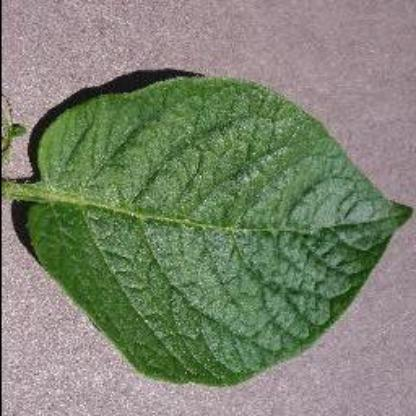Healthy-plant: (4, 71, 412, 387)
